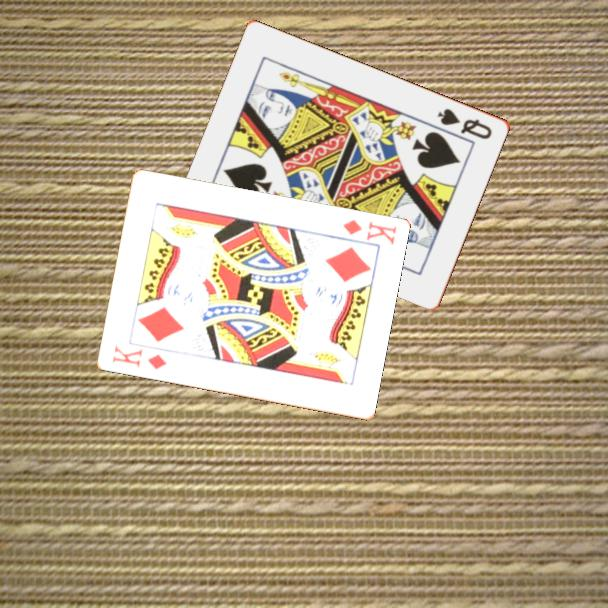d13: (339, 216, 399, 248), (108, 342, 169, 372)
s12: (434, 105, 495, 142)
